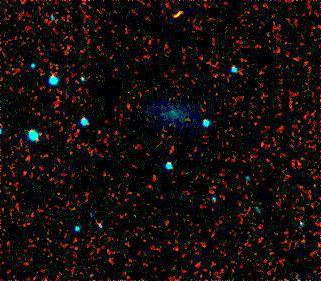star: (163, 3, 193, 33)
